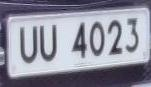0: (88, 16, 107, 62)
2: (107, 14, 125, 62)
3: (125, 13, 142, 60)
4: (69, 16, 89, 65)
U: (17, 21, 40, 69), (39, 20, 61, 67)
